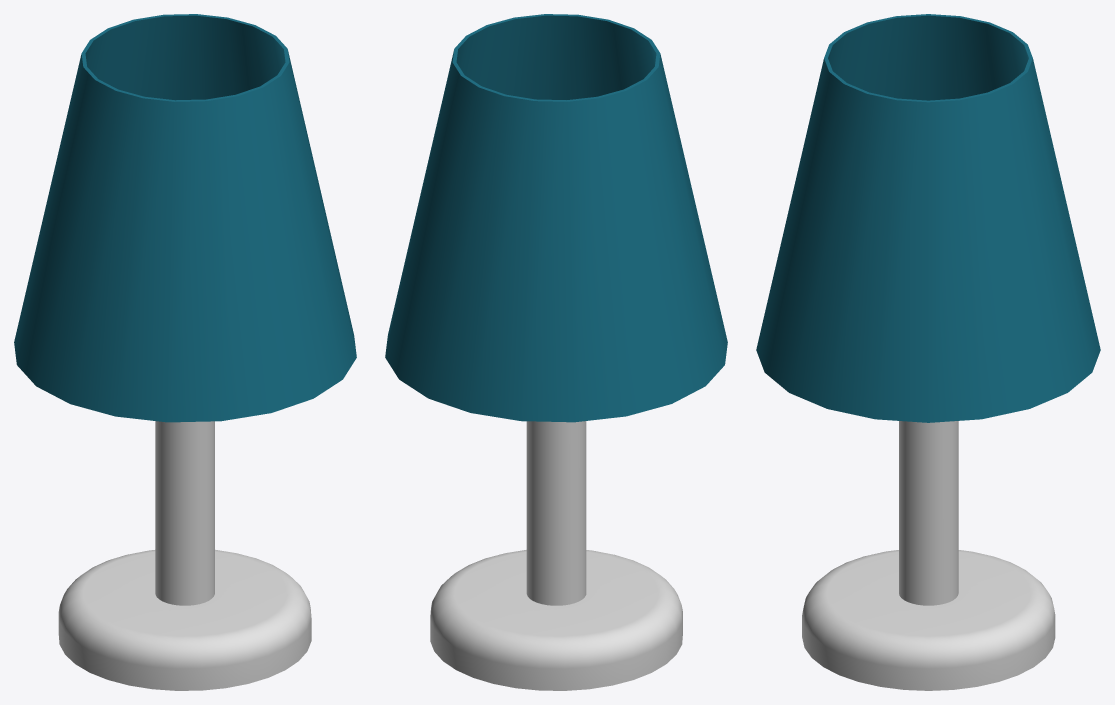
File: LampeChevet3_3.fbx
The picture shows the model from 3 angles, left to right: view 1: azimuth 30°, elevation 25°; view 2: azimuth 150°, elevation 25°; view 3: azimuth 270°, elevation 25°; orthographic projection.
Parts seen in each view (by area): view 1: pPipe110, pCylinder764; view 2: pPipe110, pCylinder764; view 3: pPipe110, pCylinder764.
Part boxes in pixels (x1,y1,x2,y2): pPipe110: (14,14,356,422); pCylinder764: (58,421,311,690); pPipe110: (385,14,727,422); pCylinder764: (430,421,682,690); pPipe110: (756,14,1100,422); pCylinder764: (802,421,1055,690).
Bounding box in the file's own units: 13.33 × 24.73 × 13.33.
